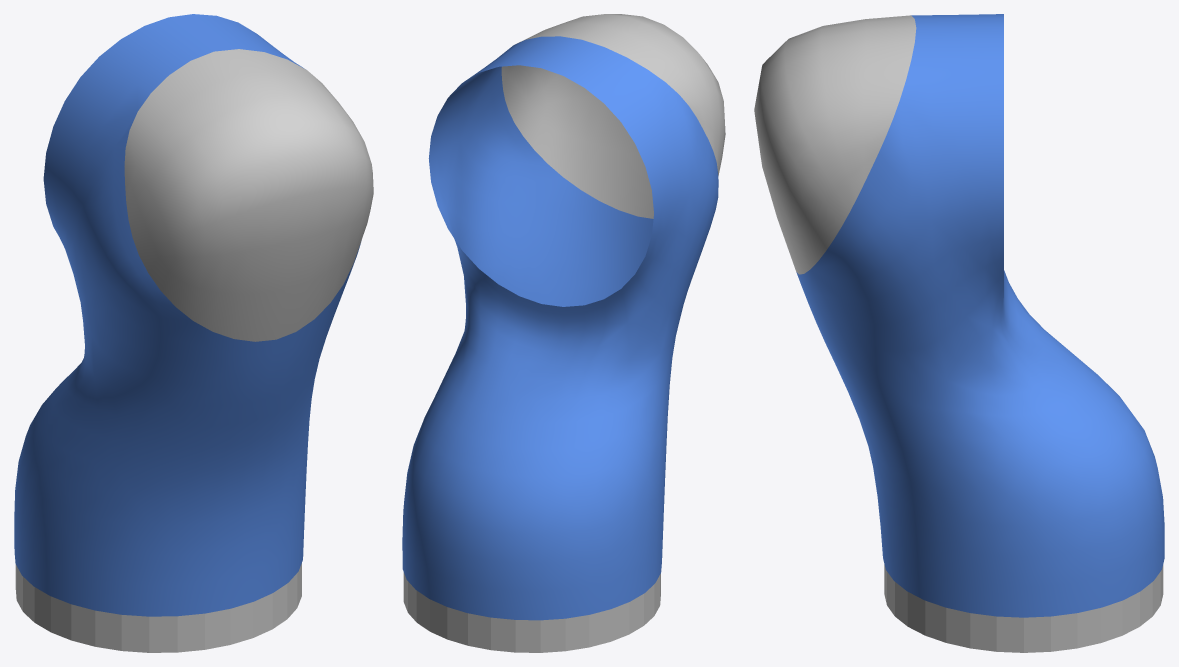
The model's file is arm_segment_b_blue.dae.
3 views of the same model, side by side, from view 1: azimuth 30°, elevation 25°; view 2: azimuth 150°, elevation 25°; view 3: azimuth 270°, elevation 25° (orthographic). The views are drawn at different scales.
Visible parts, largest first — view 1: segment; view 2: segment; view 3: segment.
Boxes of the visible parts, x1=… form: segment: x1=14, y1=14, x2=373, y2=652; segment: x1=402, y1=14, x2=725, y2=652; segment: x1=754, y1=14, x2=1164, y2=652.
Bounding box in the file's own units: 0.124 × 0.1765 × 0.269.
